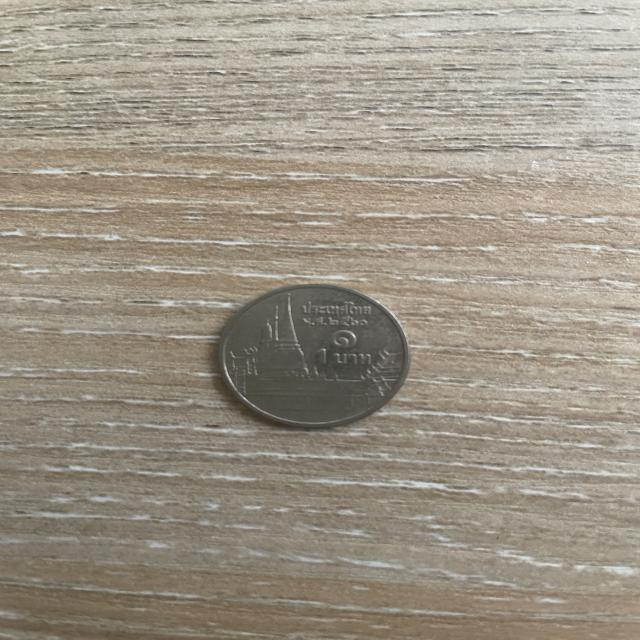1 Bath: (205, 273, 429, 436)
